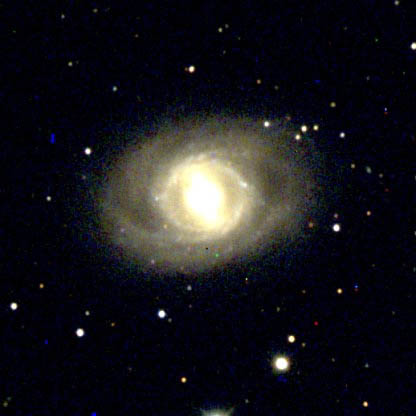Messier 95: (84, 105, 328, 278)
